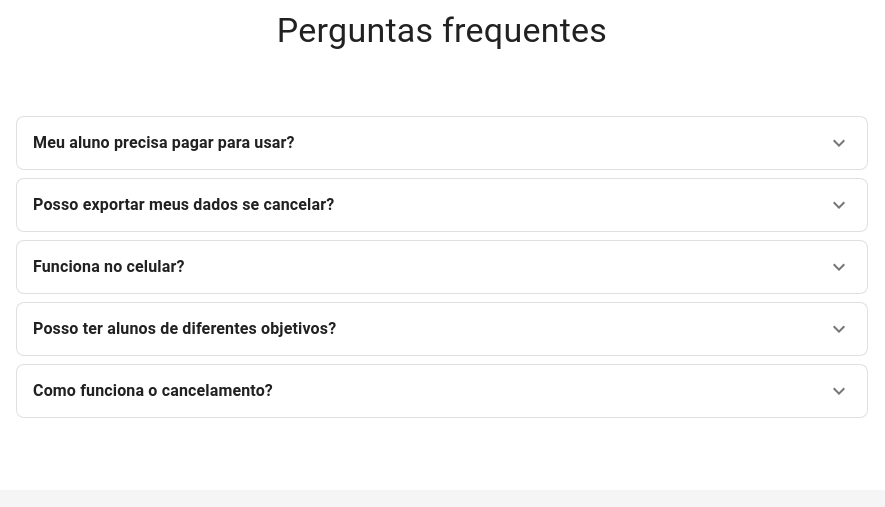
Test: Faq › clicking an accordion item expands to show the answer
Click the button "Meu aluno precisa pagar para usar?" at [164, 142], box [17, 117, 867, 169]
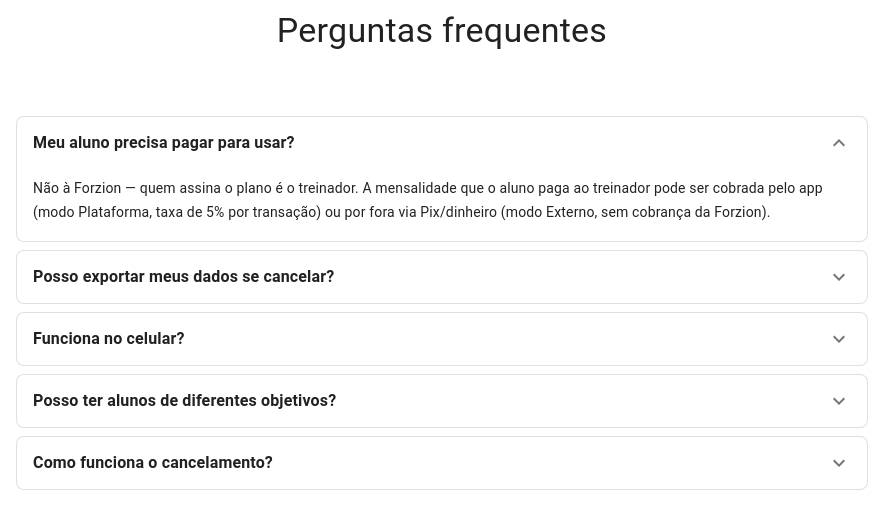
Check: the text "quem assina o plano é o treinador" is shown, box [33, 180, 823, 220]
